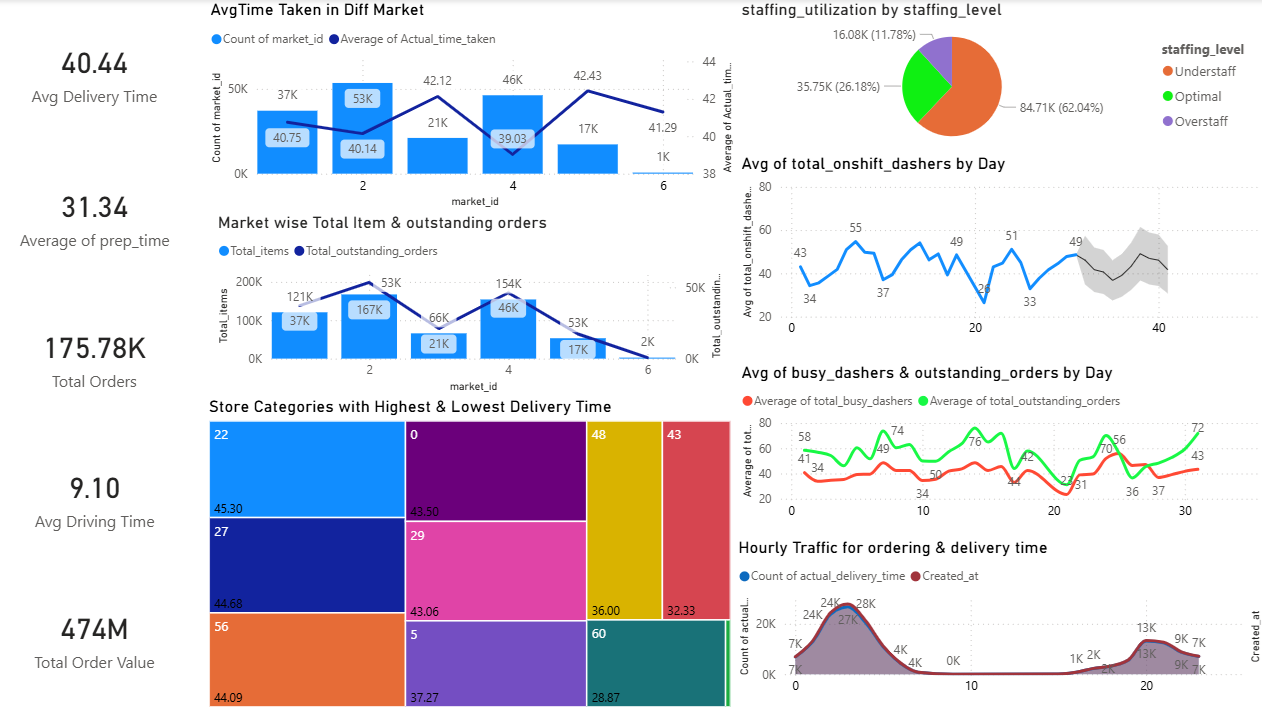

What the dashboard file says about the page in this screenshot:
{"tool":"powerbi","page":{"name":"Page 1","canvas":[1280,720],"ordinal":0},"visuals":[{"type":"lineStackedColumnComboChart","title":"AvgTime Taken in Diff Market","fields":{"Category":["Porter NN Regression.market_id"],"Y2":["Avg(Porter NN Regression.Actual_time_taken)"],"Y":["CountNonNull(Porter NN Regression.market_id)"]},"box":[210,0,536.7,215],"z":0},{"type":"card","fields":{"Values":["Avg(Porter NN Regression.Actual_time_taken)"]},"box":[0,0,195.9,145.7],"z":1000},{"type":"card","fields":{"Values":["Avg(Porter NN Regression.prep_time)"]},"box":[0,145.3,196.5,146.9],"z":2000},{"type":"card","fields":{"Values":["CountNonNull(Porter NN Regression.market_id)"]},"box":[0,291.5,195.9,140.9],"z":3000},{"type":"card","fields":{"Values":["Avg(Porter NN Regression.driving_duration_min)"]},"box":[0,432.5,196.5,138.7],"z":4000},{"type":"card","fields":{"Values":["Sum(Porter NN Regression.subtotal)"]},"box":[0,571.6,195.9,147.3],"z":5000},{"type":"areaChart","title":"Hourly Traffic for ordering & delivery time","fields":{"Category":["Porter NN Regression.delivery_hour"],"Y":["Count(Porter NN Regression.actual_delivery_time)"],"Y2":["Count(Porter NN Regression.created_at)"]},"box":[743.3,543.3,536.7,176.7],"z":6000},{"type":"treemap","title":"Store Categories with Highest & Lowest Delivery Time","fields":{"Group":["Porter NN Regression.store_primary_category"],"Values":["Porter NN Regression.Avg_Time_Taken"]},"box":[209,401.3,536,318],"z":7000},{"type":"lineChart","title":"Avg of busy_dashers & outstanding_orders by Day","fields":{"Category":["Porter NN Regression.created_at.Variation.Date Hierarchy.Day"],"Y":["Avg(Porter NN Regression.total_busy_dashers)","Avg(Porter NN Regression.total_outstanding_orders)"]},"box":[746.7,366.7,533.3,176.7],"z":8000},{"type":"lineChart","fields":{"Y":["Avg(Porter NN Regression.total_onshift_dashers)"],"Category":["Porter NN Regression.created_at.Variation.Date Hierarchy.Day"]},"box":[746.7,156.7,533.3,203.3],"z":9000},{"type":"lineClusteredColumnComboChart","title":"Market wise Total Item & outstanding orders","fields":{"Category":["Porter NN Regression.market_id"],"Y":["Sum(Porter NN Regression.total_items)"],"Y2":["CountNonNull(Porter NN Regression.total_outstanding_orders)"]},"box":[218.3,215,518.3,186.7],"z":10000},{"type":"pieChart","fields":{"Category":["Porter NN Regression.staffing_level"],"Y":["CountNonNull(Porter NN Regression.staffing_level)"]},"box":[746.7,0,533.3,156.7],"z":11000}]}

Visuals, with their boxes in screenshot pixels (x1, y1, x2, y2), scaled from the page's 1280x720 canvas onto the 1262x707 screenshot:
"AvgTime Taken in Diff Market" lineStackedColumnComboChart: select_region(207, 0, 736, 211)
card - Avg(Porter NN Regression.Actual_time_taken): select_region(0, 0, 193, 143)
card - Avg(Porter NN Regression.prep_time): select_region(0, 143, 194, 287)
card - CountNonNull(Porter NN Regression.market_id): select_region(0, 286, 193, 425)
card - Avg(Porter NN Regression.driving_duration_min): select_region(0, 425, 194, 561)
card - Sum(Porter NN Regression.subtotal): select_region(0, 561, 193, 706)
"Hourly Traffic for ordering & delivery time" areaChart: select_region(733, 533, 1261, 706)
"Store Categories with Highest & Lowest Delivery Time" treemap: select_region(206, 394, 735, 706)
"Avg of busy_dashers & outstanding_orders by Day" lineChart: select_region(736, 360, 1261, 534)
lineChart - Avg(Porter NN Regression.total_onshift_dashers) x Porter NN Regression.created_at.Variation.Date Hierarchy.Day: select_region(736, 154, 1261, 354)
"Market wise Total Item & outstanding orders" lineClusteredColumnComboChart: select_region(215, 211, 726, 394)
pieChart - Porter NN Regression.staffing_level x CountNonNull(Porter NN Regression.staffing_level): select_region(736, 0, 1261, 154)
